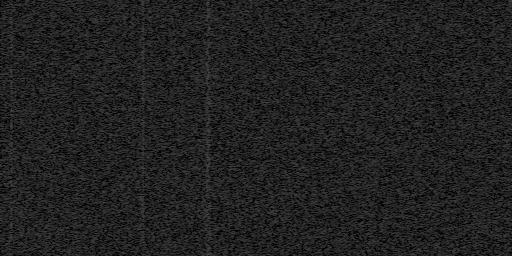wv_am: (141, 0, 145, 256)
wv_usb: (9, 133, 14, 214), (9, 44, 14, 95), (9, 215, 14, 256), (9, 96, 14, 132), (9, 12, 14, 43), (9, 1, 14, 8)
wv_wbfm: (202, 0, 214, 241), (204, 244, 213, 256)
